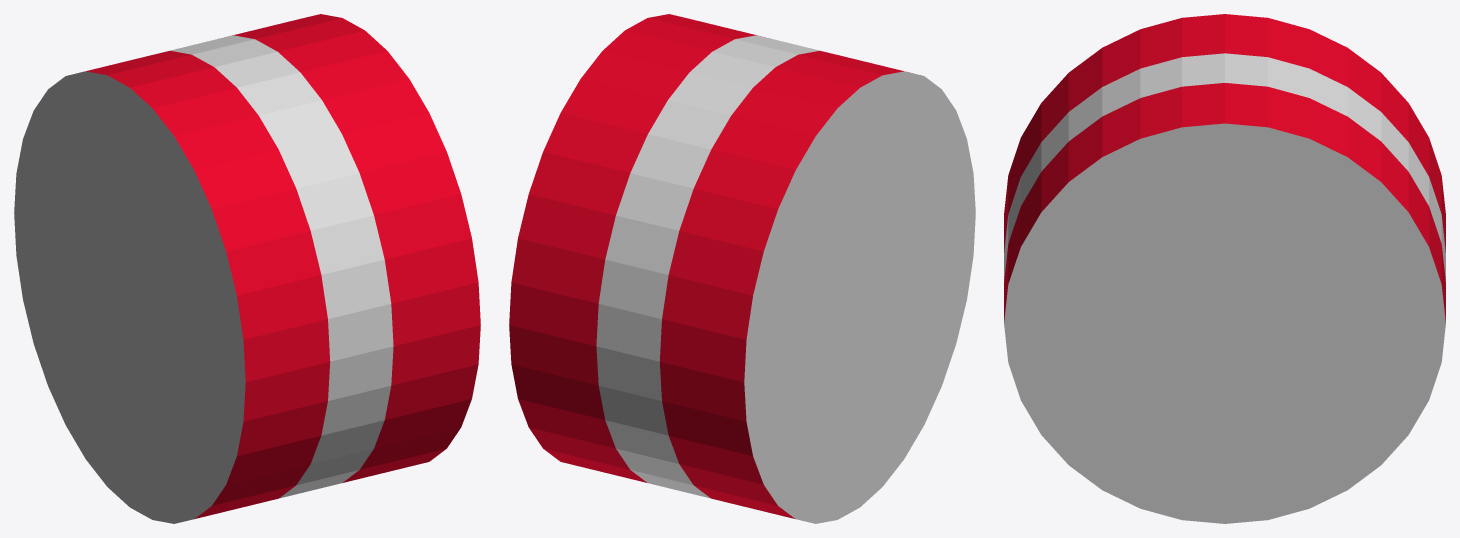
Rendered from Road.fbx.
3 renders of one model, left to right at view 1: azimuth 30°, elevation 25°; view 2: azimuth 150°, elevation 25°; view 3: azimuth 270°, elevation 25°, orthographic. The views are drawn at different scales.
Parts seen in each view (by area): view 1: Road; view 2: Road; view 3: Road.
Part boxes in pixels (<box>): Road: <box>14,14,480,523</box>; Road: <box>509,14,975,523</box>; Road: <box>1004,14,1445,523</box>.
Size of the model in its own units: 1173 by 2000 by 2000.
